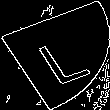L_NW: (22, 25, 88, 85)
